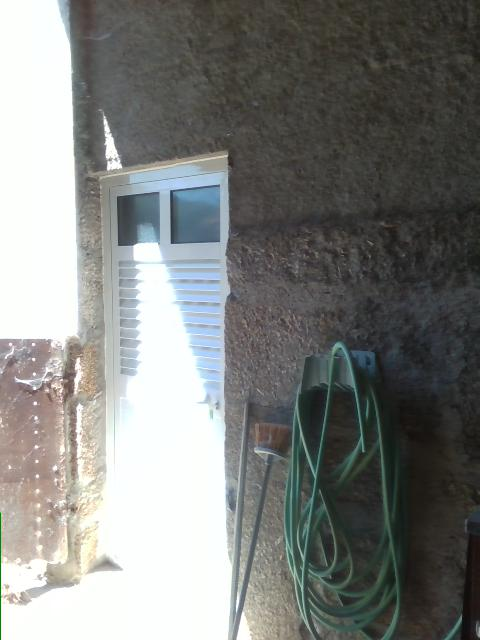closed_door: (96, 149, 230, 574)
